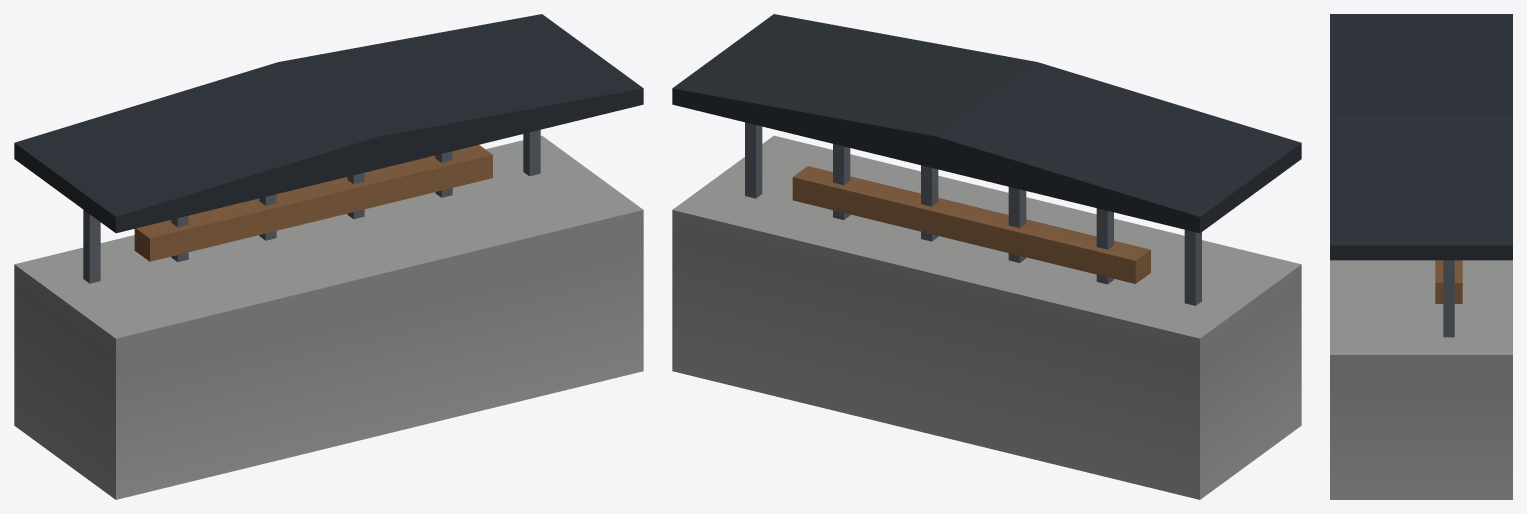
The model's file is shuttle-stop.glb.
3 views of the same model, side by side, from view 1: azimuth 30°, elevation 25°; view 2: azimuth 150°, elevation 25°; view 3: azimuth 270°, elevation 25° (orthographic). The views are drawn at different scales.
Parts seen in each view (by area): view 1: shuttle-stop; view 2: shuttle-stop; view 3: shuttle-stop.
Boxes of the visible parts, x1,y1,x2,y2 form: shuttle-stop: (14, 14, 643, 499); shuttle-stop: (672, 14, 1301, 499); shuttle-stop: (1330, 14, 1512, 499).
Size of the model in its own units: 12 by 6.5 by 4.
